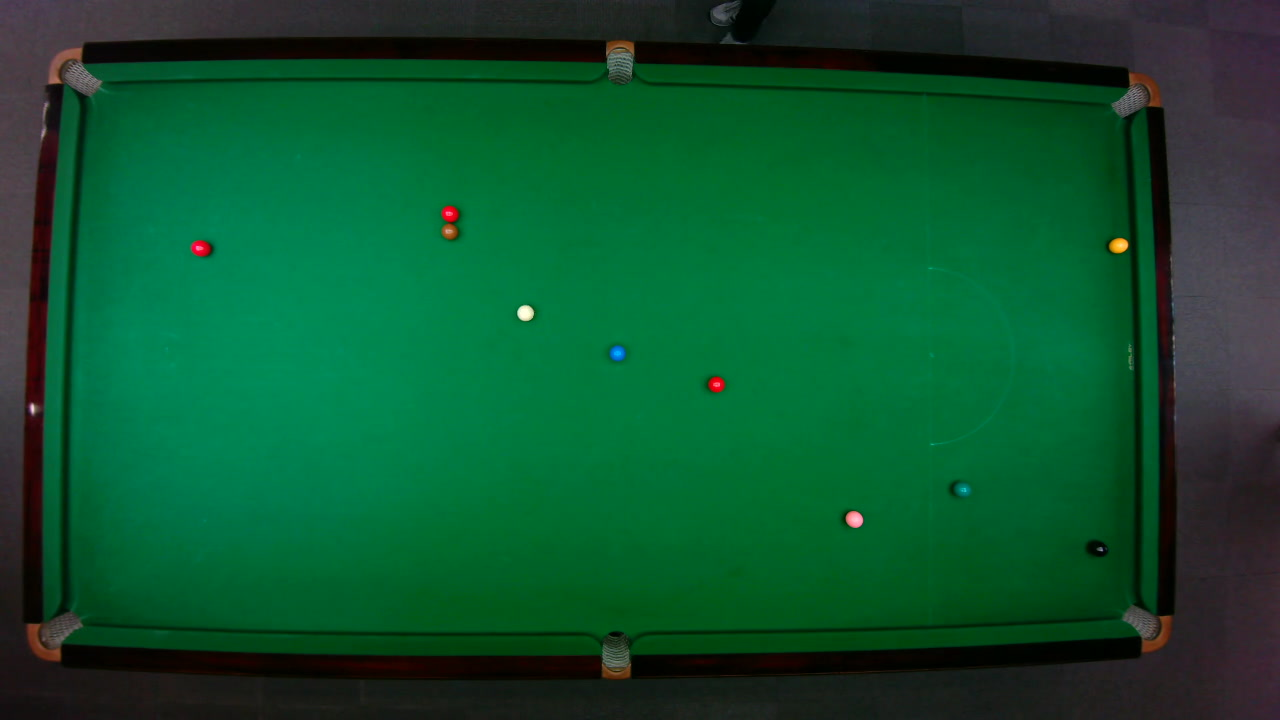bag: (25, 609, 83, 662), (46, 46, 102, 96), (1119, 603, 1171, 652), (1108, 71, 1161, 117), (600, 629, 630, 680), (605, 38, 633, 85)
black: (1087, 539, 1108, 557)
blue: (608, 344, 626, 361)
brown: (440, 223, 458, 240)
green: (951, 480, 972, 497)
pink: (843, 509, 864, 528)
red: (189, 238, 211, 257), (706, 374, 725, 393), (439, 204, 459, 222)
white: (515, 303, 534, 321)
yellow: (1107, 236, 1129, 253)
zone: (927, 266, 1014, 445)
